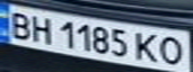1: (54, 18, 78, 48), (72, 20, 93, 52)
5: (109, 26, 133, 60)
8: (90, 24, 112, 55)
B: (3, 8, 36, 39)
H: (24, 12, 57, 45)
K: (133, 30, 163, 64)
O: (157, 34, 187, 68)
